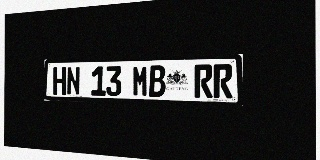1: (91, 66, 106, 96)
3: (106, 66, 121, 96)
B: (149, 65, 166, 97)
H: (53, 67, 66, 95)
M: (132, 65, 148, 97)
N: (67, 67, 80, 95)
R: (213, 64, 233, 98), (194, 64, 213, 98)
